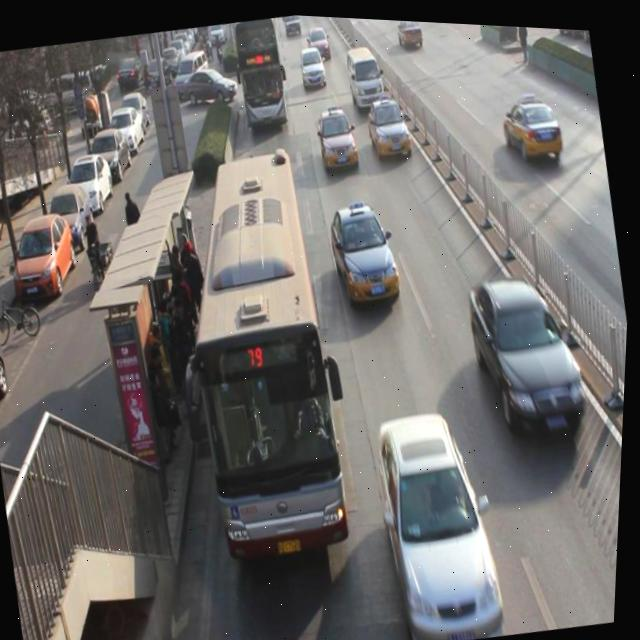car: (369, 403, 519, 640), (461, 258, 602, 447), (324, 196, 410, 310), (499, 84, 569, 167), (363, 91, 418, 160), (315, 98, 365, 172), (299, 44, 328, 85), (303, 21, 334, 58), (393, 16, 426, 49), (281, 11, 301, 31)
truck: (343, 39, 389, 110)
van: (157, 142, 368, 568), (230, 13, 294, 129)
